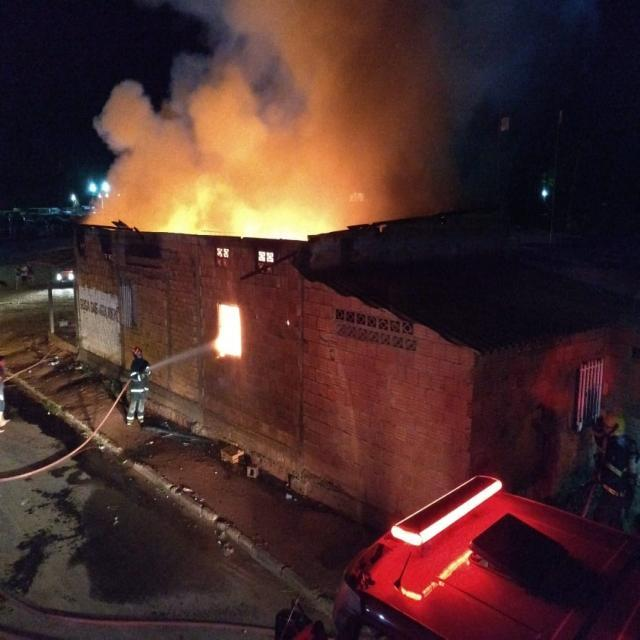Fire: (230, 202, 348, 241)
